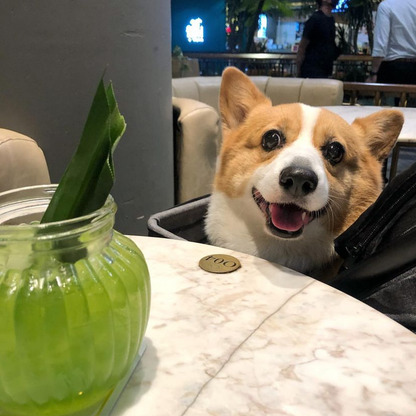Corgi: (197, 51, 410, 277)
